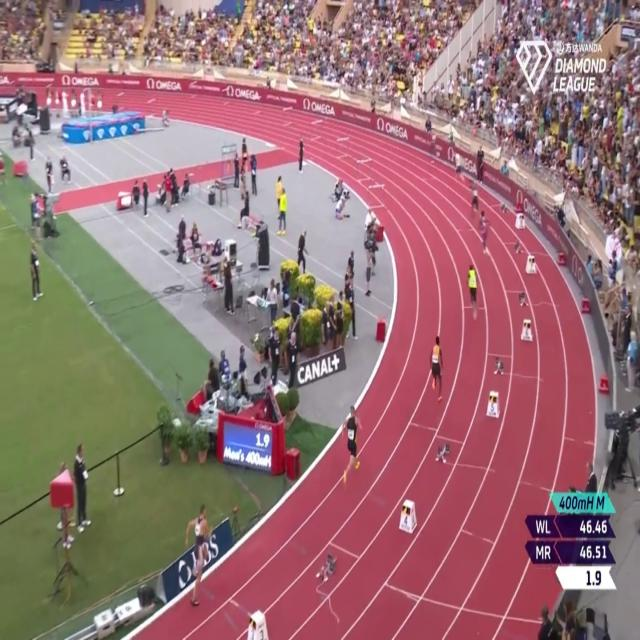athlete: (185, 496, 218, 616), (342, 400, 363, 489), (428, 328, 446, 408), (427, 121, 443, 181), (466, 261, 482, 318), (478, 207, 491, 259), (452, 148, 466, 188), (470, 181, 480, 222)
hurdle: (369, 182, 386, 217), (356, 156, 374, 187), (310, 118, 324, 144), (145, 95, 159, 120), (337, 135, 351, 159), (220, 88, 234, 111), (188, 76, 199, 104), (250, 93, 263, 116), (284, 106, 296, 130), (116, 88, 127, 110)
